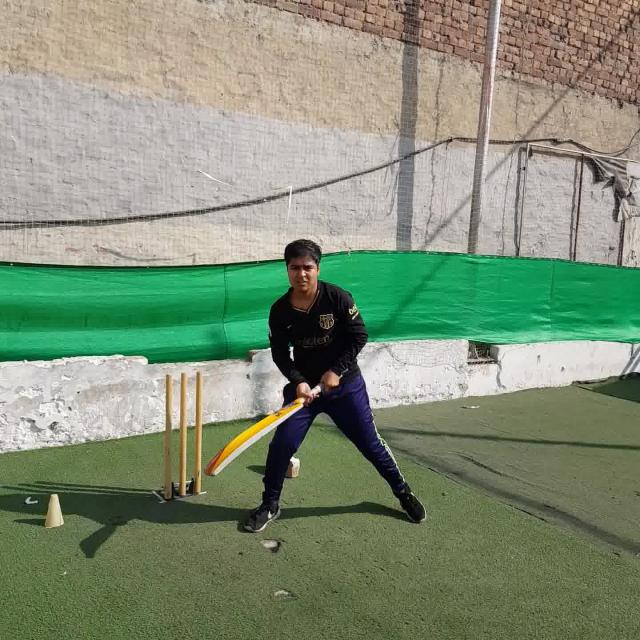bat: (203, 378, 340, 475)
